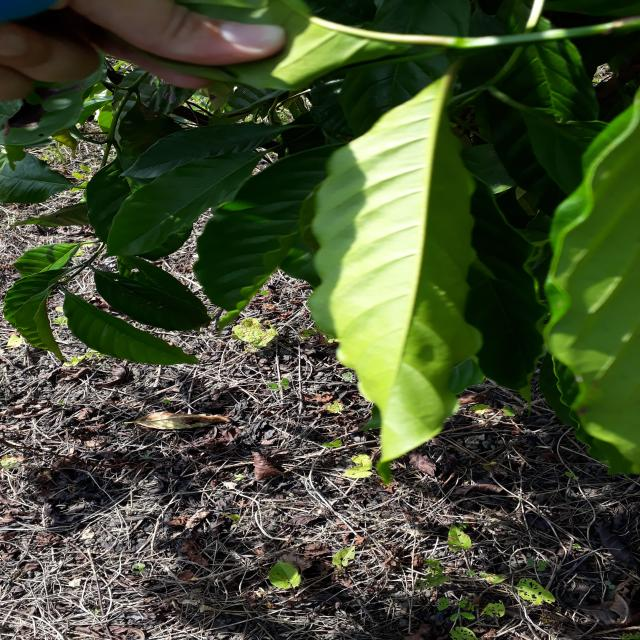Sanas: (321, 76, 533, 466)
